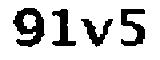1: (49, 6, 80, 51)
5: (117, 7, 151, 48)
9: (11, 8, 47, 52)
v: (81, 14, 114, 48)
